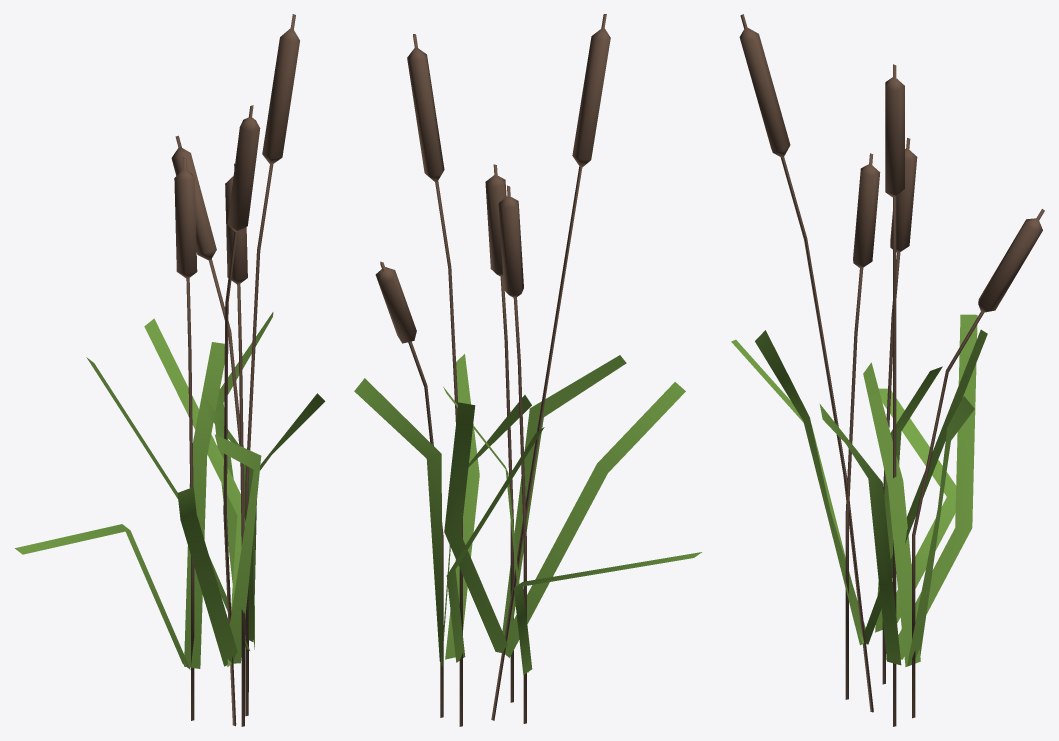
Rendered from Reed_10.fbx.
The picture shows the model from 3 angles, left to right: view 1: azimuth 30°, elevation 25°; view 2: azimuth 150°, elevation 25°; view 3: azimuth 270°, elevation 25°; orthographic projection.
Parts seen in each view (by area): view 1: Reed 10; view 2: Reed 10; view 3: Reed 10.
Part boxes in pixels (x1,y1,x2,y2): Reed 10: (15,14,325,726); Reed 10: (354,14,701,726); Reed 10: (731,14,1044,726).
Size of the model in its own units: 127 by 277 by 115.
